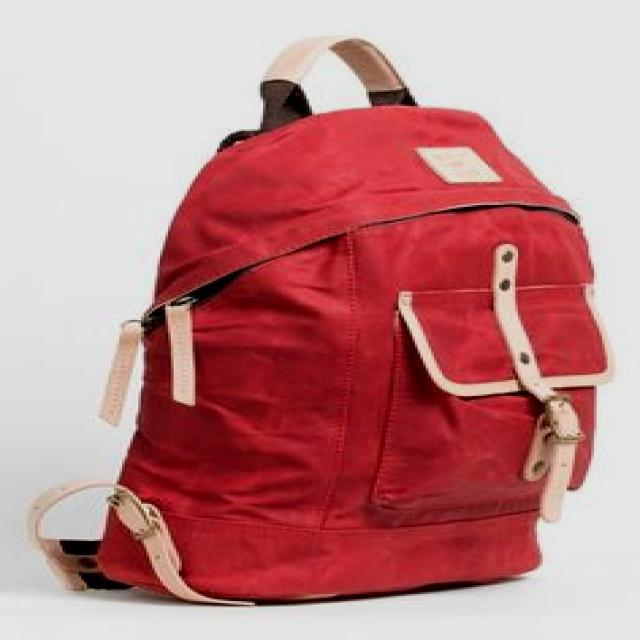backpack: (28, 35, 614, 608)
